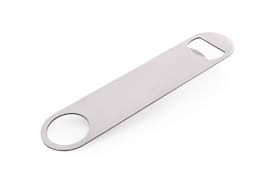bottleopener: (39, 30, 235, 153)
